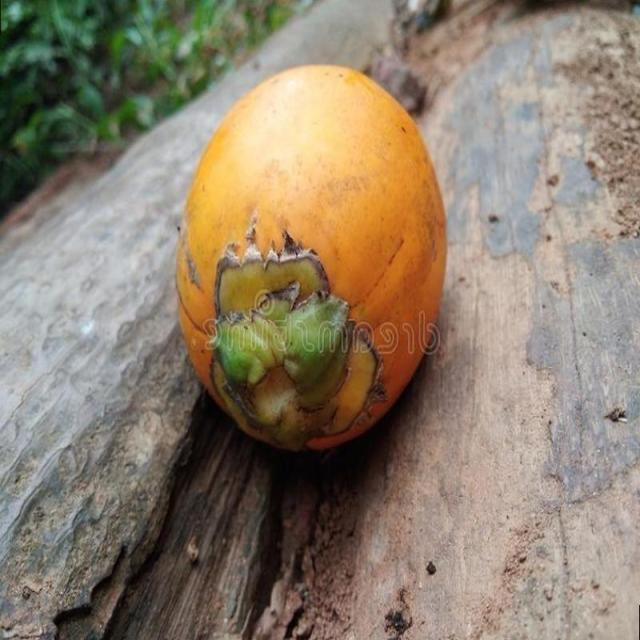good: (174, 65, 448, 455)
